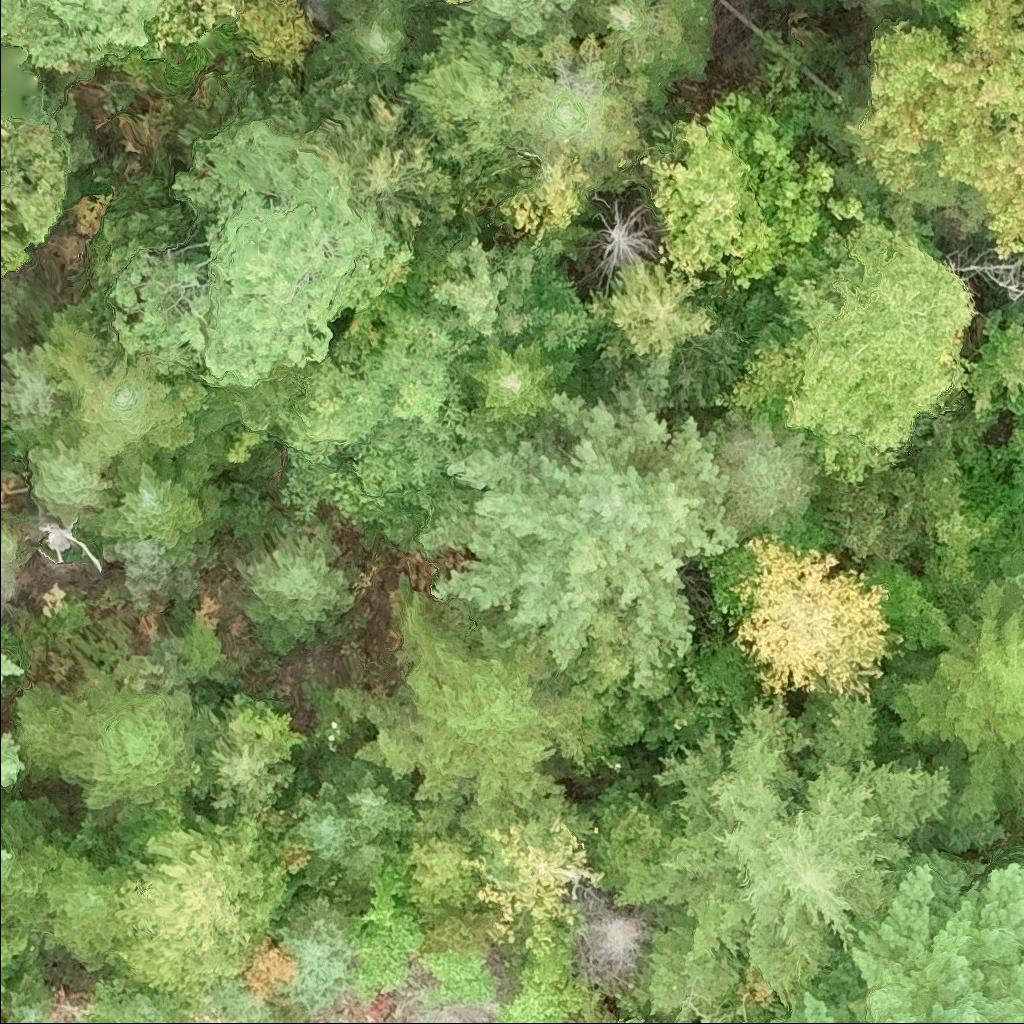crown: (605, 692, 952, 1019), (416, 353, 741, 688), (105, 116, 416, 391), (330, 590, 603, 872), (711, 214, 980, 484), (734, 846, 1023, 1023), (274, 306, 478, 555), (842, 0, 1023, 265), (39, 303, 242, 493), (106, 810, 299, 1008), (873, 577, 1023, 823), (714, 87, 868, 296), (726, 535, 907, 703), (302, 64, 459, 244), (52, 653, 199, 812), (585, 259, 726, 422), (639, 101, 765, 280), (504, 28, 651, 180), (458, 816, 605, 955), (400, 11, 518, 164), (571, 0, 720, 111), (231, 526, 357, 656), (430, 236, 561, 353), (713, 404, 826, 539), (77, 459, 237, 553), (183, 693, 293, 818), (0, 0, 166, 73), (385, 794, 476, 925), (287, 780, 387, 894), (303, 0, 450, 76), (0, 117, 67, 281), (316, 752, 425, 851), (275, 887, 356, 1019), (461, 338, 583, 424), (42, 853, 127, 972), (27, 416, 120, 523), (574, 883, 653, 991), (575, 190, 661, 289), (953, 307, 1023, 422), (525, 258, 596, 369), (783, 692, 876, 772), (101, 537, 200, 611), (0, 342, 69, 430), (459, 0, 586, 44), (836, 0, 956, 39), (102, 976, 179, 1023), (0, 966, 55, 1023), (0, 715, 29, 791), (994, 537, 1023, 611), (0, 649, 27, 702), (0, 835, 22, 889), (449, 0, 469, 6)
